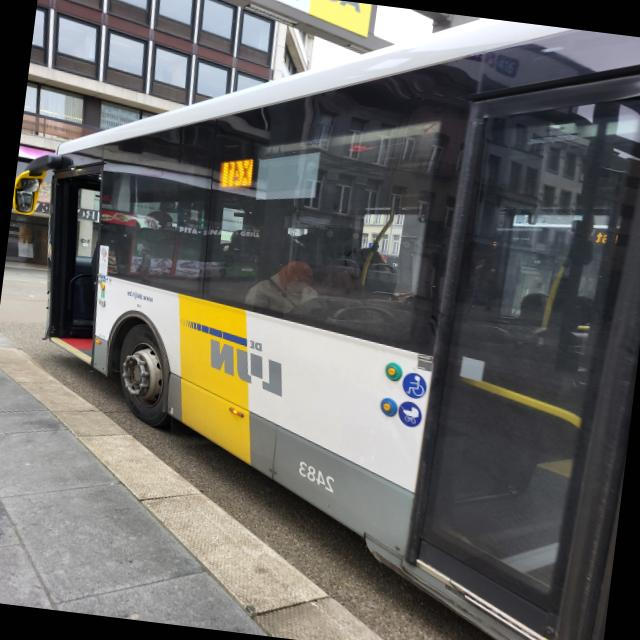bus-number: (216, 154, 253, 192)
